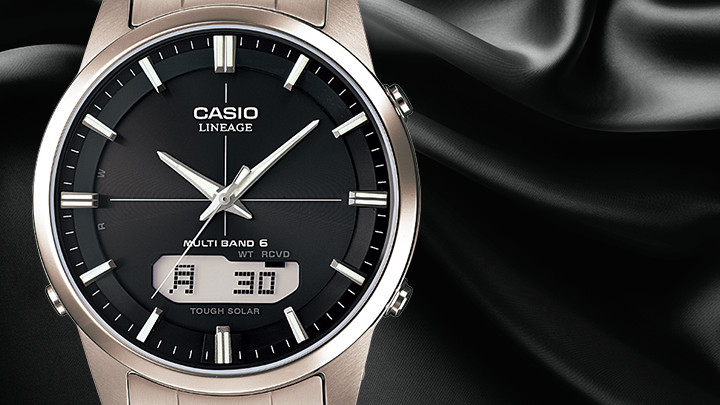clock: (32, 4, 423, 397)
